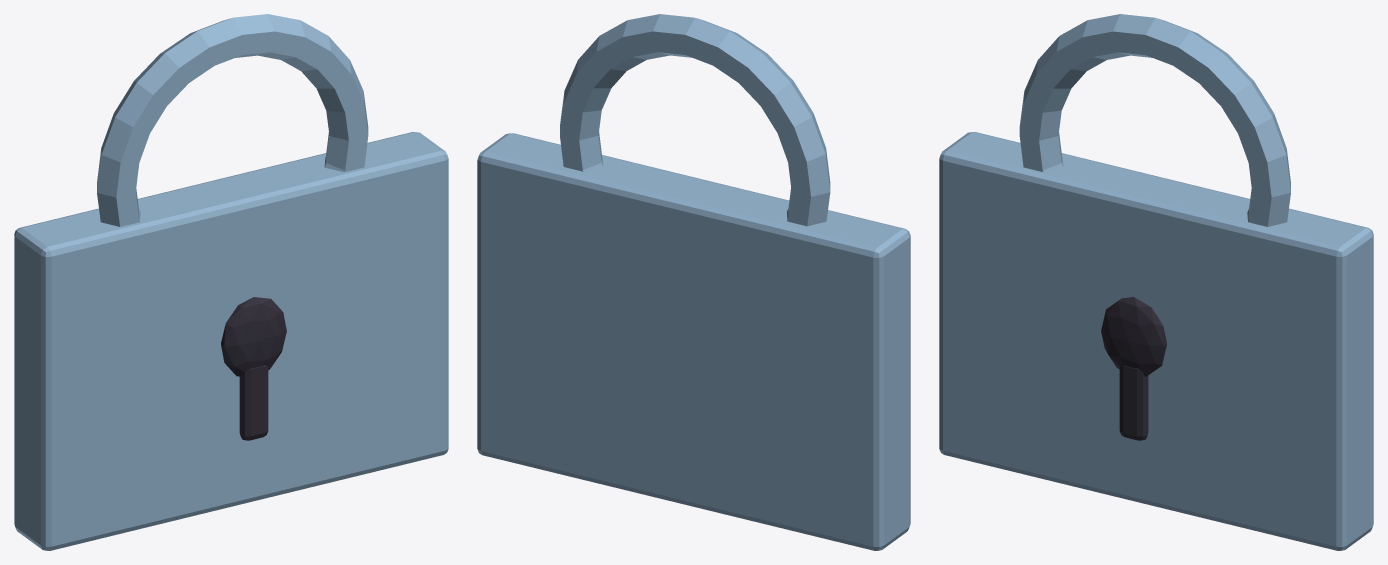
The model's file is hidden-key.glb.
The picture shows the model from 3 angles, left to right: view 1: azimuth 30°, elevation 25°; view 2: azimuth 150°, elevation 25°; view 3: azimuth 330°, elevation 25°; orthographic projection.
Visible parts, largest first — view 1: Lock body.001, Lock shackle.001, Keyhole.001; view 2: Lock body.001, Lock shackle.001; view 3: Lock body.001, Lock shackle.001, Keyhole.001.
Boxes of the visible parts, x1=… form: Lock body.001: x1=14, y1=132, x2=448, y2=550; Lock shackle.001: x1=97, y1=14, x2=368, y2=226; Keyhole.001: x1=221, y1=297, x2=286, y2=440; Lock body.001: x1=477, y1=133, x2=910, y2=550; Lock shackle.001: x1=560, y1=14, x2=830, y2=226; Lock body.001: x1=939, y1=132, x2=1373, y2=550; Lock shackle.001: x1=1019, y1=14, x2=1290, y2=226; Keyhole.001: x1=1101, y1=297, x2=1166, y2=440.
Bounding box in the file's own units: 0.021 × 0.0235 × 0.004.
